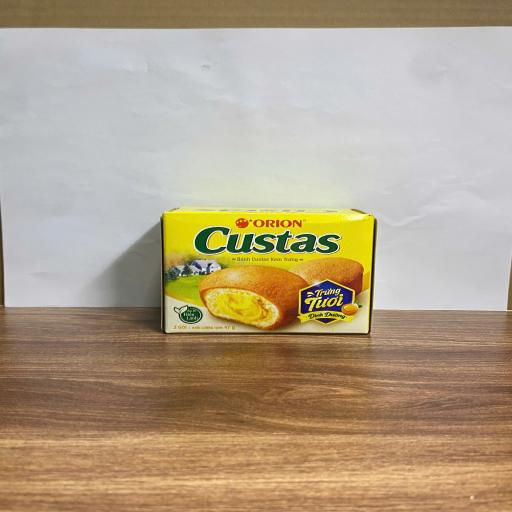custas: (160, 206, 378, 334)
